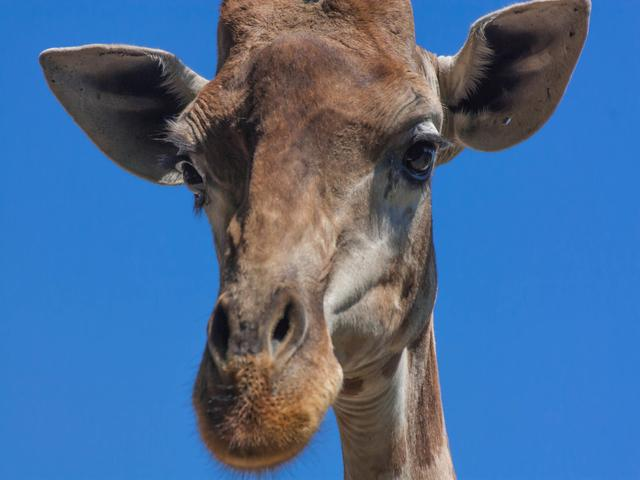giraffe: (35, 1, 519, 472)
